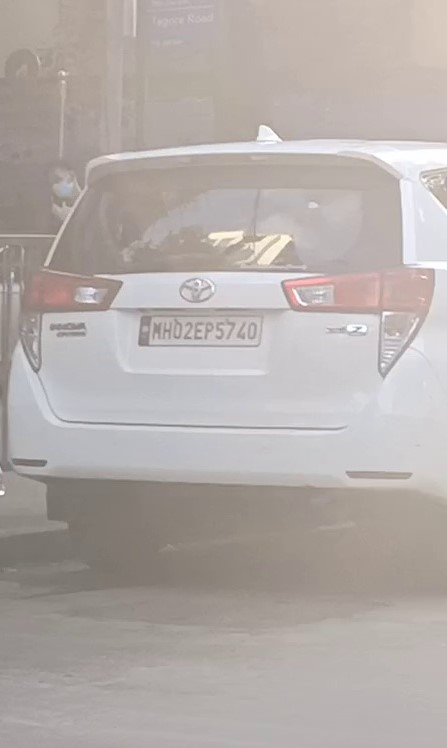MH02EP5740: (138, 315, 263, 345)
